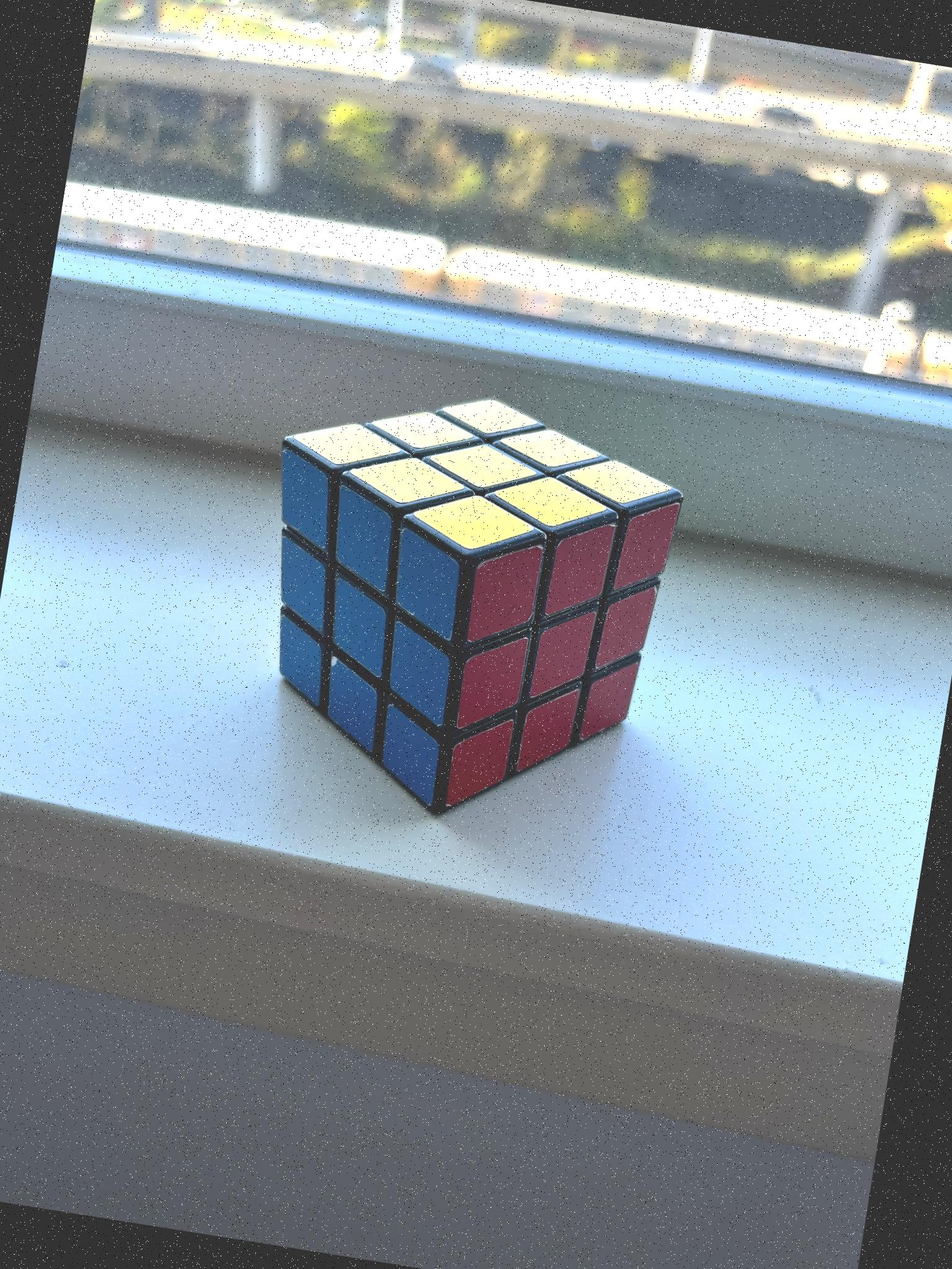rubiks_cube: (278, 398, 680, 806)
